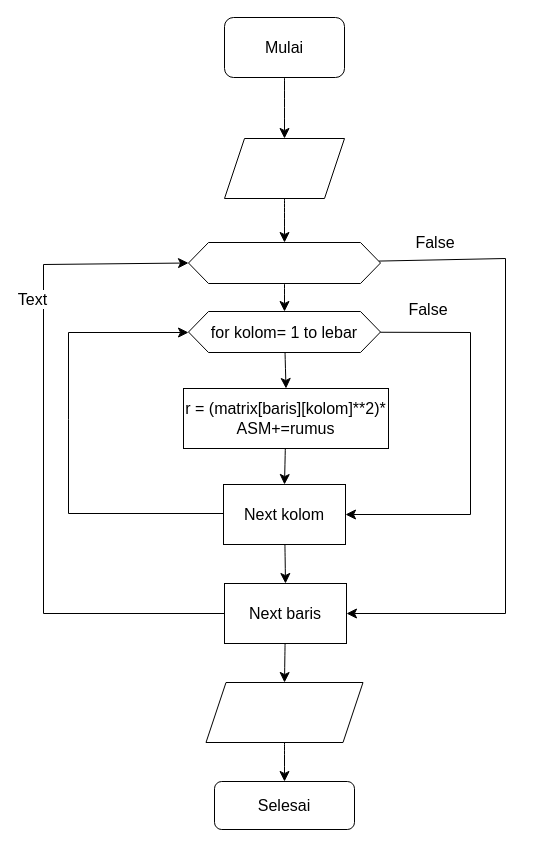
Some shapes in this 533 by 847 pixel diagram are drawn without their labels. Here are the shapes that lost their labels. From the top down, the box of each, then its label:
(224, 138, 344, 198): matriks
(188, 242, 380, 284): for baris = 1 to tinggi
(205, 682, 363, 742): Nilai Contrast
